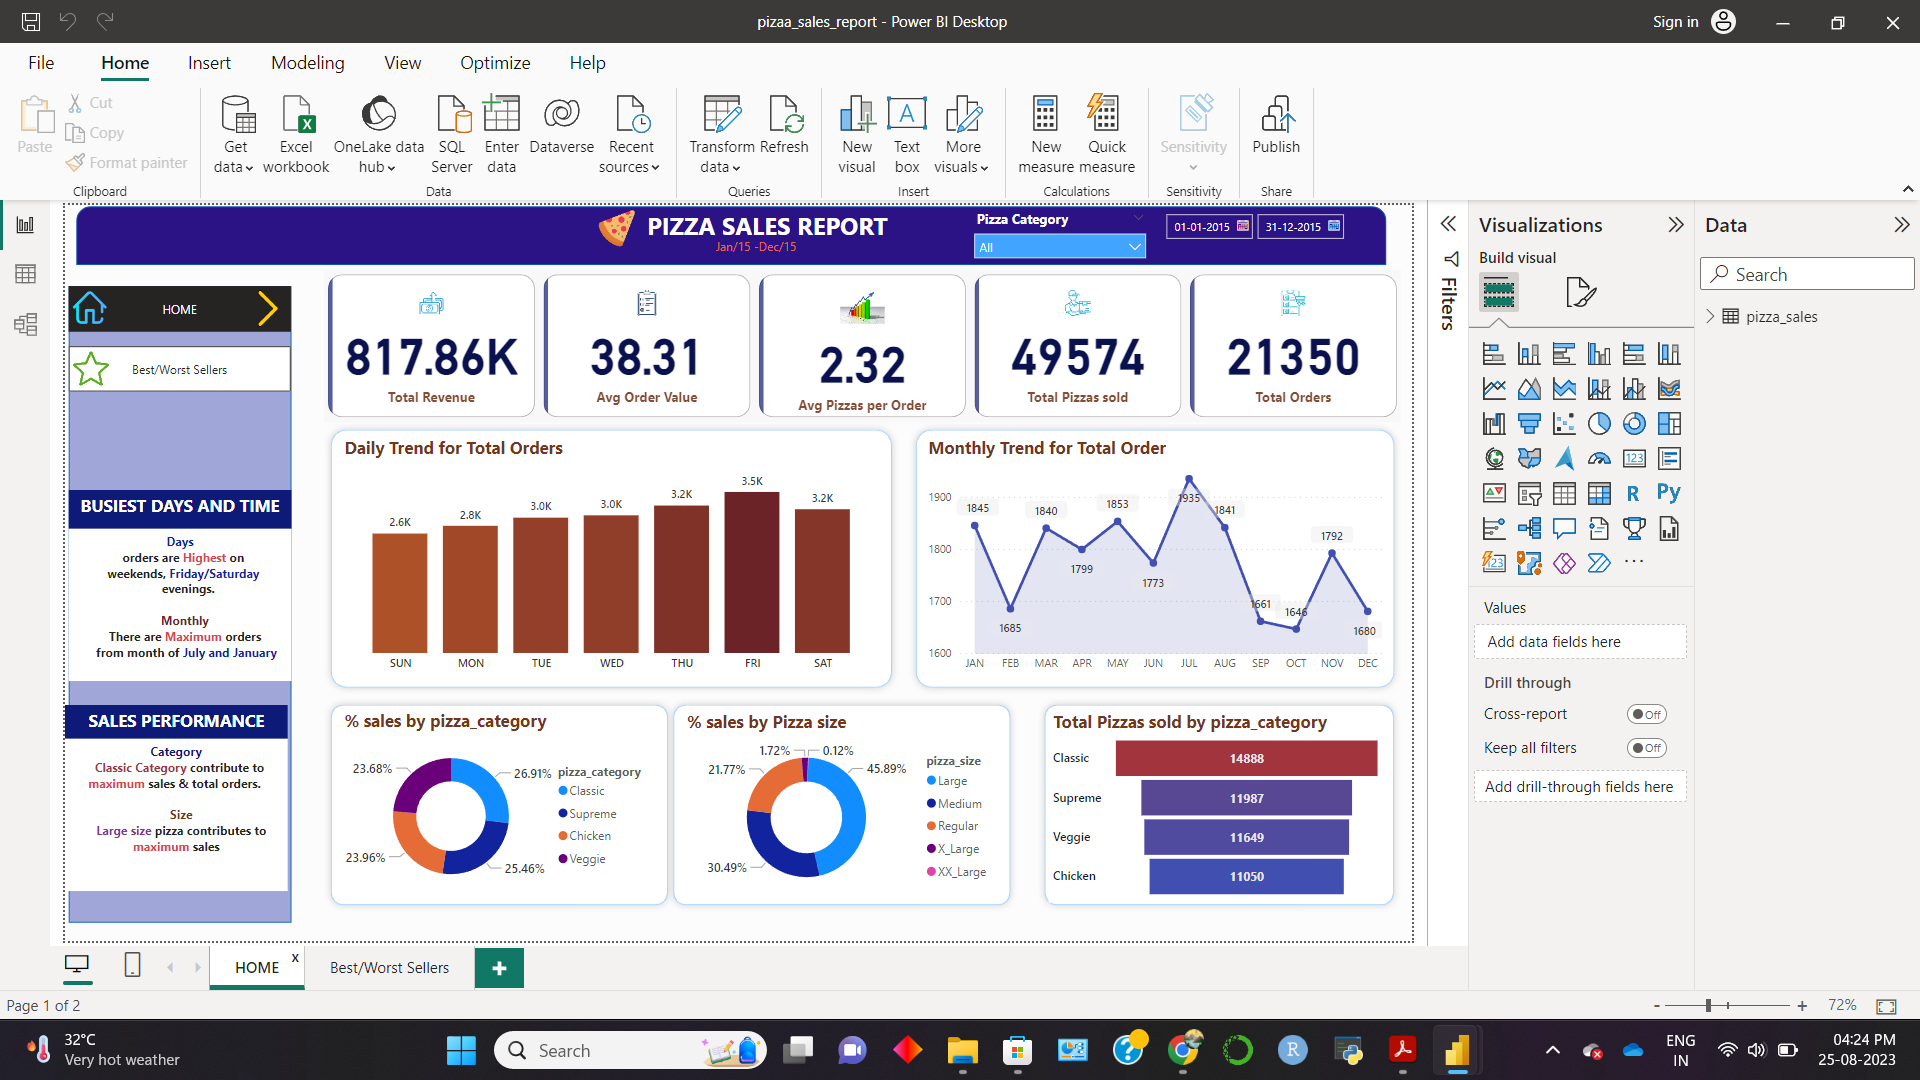

This screenshot's page, from the dashboard's own definition file:
{"tool":"powerbi","page":{"name":"home","canvas":[1500,820],"ordinal":0},"visuals":[{"type":"shape","box":[0,0,1459,65.4],"z":0},{"type":"shape","box":[0,90.5,247.8,708.6],"z":1000},{"type":"cardVisual","fields":{"Data":["pizza_sales.Total Revenue","pizza_sales.Avg Order Value","pizza_sales.Avg Pizzas per Order","pizza_sales.Total Pizzas sold","pizza_sales.Total Orders"]},"box":[288.2,72.4,1200.1,169.8],"z":2000},{"type":"textbox","box":[643.2,0,309.1,61.3],"z":3000},{"type":"textbox","box":[719.8,32,125.3,40.4],"z":4000},{"type":"image","box":[560,0,110,52.5],"z":5000},{"type":"shape","box":[288.2,242.2,640.4,303.5],"z":6000},{"type":"columnChart","title":" Daily Trend for Total Orders","fields":{"Category":["pizza_sales.Order Day"],"Y":["pizza_sales.Total Orders"]},"box":[306.3,257.6,605.6,271.5],"z":7000},{"type":"shape","box":[939.7,242.2,548.5,303.5],"z":8000},{"type":"areaChart","title":"Monthly Trend for Total Order ","fields":{"Category":["pizza_sales.Order Month"],"Y":["pizza_sales.Total Orders"]},"box":[956.4,257.6,515.1,271.5],"z":9000},{"type":"shape","box":[288.2,548.5,391.2,239.5],"z":10000},{"type":"shape","box":[669.6,548.5,391.2,239.5],"z":11000},{"type":"shape","box":[1083.1,548.5,405.1,239.5],"z":12000},{"type":"donutChart","title":"% sales  by pizza_category","fields":{"Category":["pizza_sales.pizza_category"],"Y":["pizza_sales.Total Revenue"]},"box":[306.3,561.1,356.4,214.4],"z":13000},{"type":"donutChart","title":"% sales  by Pizza size","fields":{"Y":["pizza_sales.Total Revenue"],"Category":["pizza_sales.pizza_size"]},"box":[687.7,562.4,356.4,214.4],"z":14000},{"type":"textbox","box":[0,327.2,247.8,32],"z":15000},{"type":"funnel","fields":{"Y":["pizza_sales.Total Pizzas sold"],"Category":["pizza_sales.pizza_category"]},"box":[1095.7,562.4,375.9,214.4],"z":16000},{"type":"textbox","box":[0,556.9,247.8,37.6],"z":17000},{"type":"textbox","box":[0,359.2,247.8,169.8],"z":18000},{"type":"textbox","box":[0,594.5,247.8,169.8],"z":19000},{"type":"slicer","fields":{"Values":["pizza_sales.pizza_category"]},"box":[1002.4,0,211.6,61.3],"z":20000},{"type":"slicer","fields":{"Values":["pizza_sales.order_date"]},"box":[1214,0,217.2,65.4],"z":21000},{"type":"pageNavigator","box":[0,90.5,247.8,50.1],"z":22000},{"type":"pageNavigator","box":[0,157.3,247.8,50.1],"z":23000},{"type":"image","box":[183.8,90.5,84.9,50.1],"z":24000},{"type":"image","box":[0,90.5,54.3,47.3],"z":25000},{"type":"image","box":[4.2,157.3,50.1,50.1],"z":26000}]}

Visuals, with their boxes on the page's 1500x820 design canvas (x1, y1, x2, y2). These are canvas units, not pixel positions in the 1920x1080 screenshot, which may show the page scaled, cropped or inside an application window:
shape: Rect(0, 0, 1459, 65)
shape: Rect(0, 90, 248, 799)
cardVisual - pizza_sales.Total Revenue x pizza_sales.Avg Order Value: Rect(288, 72, 1488, 242)
textbox: Rect(643, 0, 952, 61)
textbox: Rect(720, 32, 845, 72)
image: Rect(560, 0, 670, 52)
shape: Rect(288, 242, 929, 546)
" Daily Trend for Total Orders" columnChart: Rect(306, 258, 912, 529)
shape: Rect(940, 242, 1488, 546)
"Monthly Trend for Total Order " areaChart: Rect(956, 258, 1472, 529)
shape: Rect(288, 548, 679, 788)
shape: Rect(670, 548, 1061, 788)
shape: Rect(1083, 548, 1488, 788)
"% sales  by pizza_category" donutChart: Rect(306, 561, 663, 776)
"% sales  by Pizza size" donutChart: Rect(688, 562, 1044, 777)
textbox: Rect(0, 327, 248, 359)
funnel - pizza_sales.Total Pizzas sold x pizza_sales.pizza_category: Rect(1096, 562, 1472, 777)
textbox: Rect(0, 557, 248, 594)
textbox: Rect(0, 359, 248, 529)
textbox: Rect(0, 594, 248, 764)
slicer - pizza_sales.pizza_category: Rect(1002, 0, 1214, 61)
slicer - pizza_sales.order_date: Rect(1214, 0, 1431, 65)
pageNavigator: Rect(0, 90, 248, 141)
pageNavigator: Rect(0, 157, 248, 207)
image: Rect(184, 90, 269, 141)
image: Rect(0, 90, 54, 138)
image: Rect(4, 157, 54, 207)
